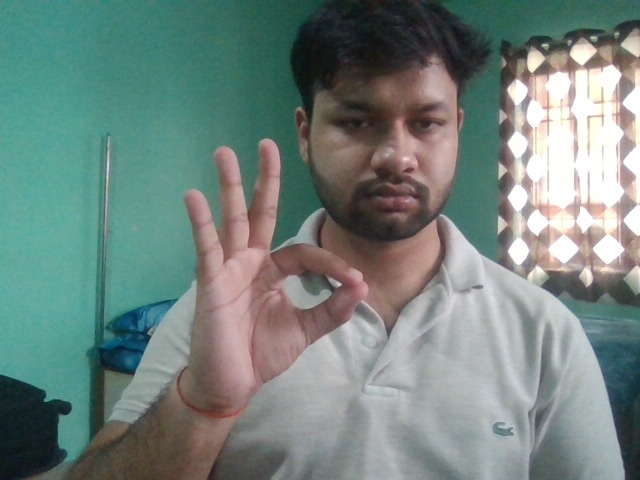Ok: (181, 137, 368, 405)
